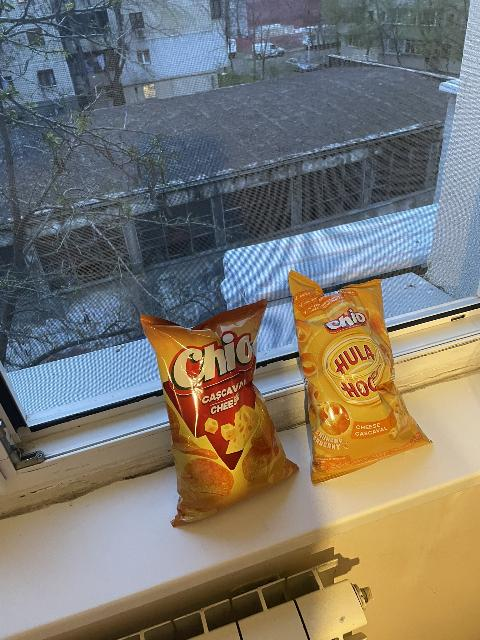Chio Cascaval 125g: (140, 302, 302, 524)
Chio Hula Hoops Cheese 70g: (287, 270, 433, 486)
